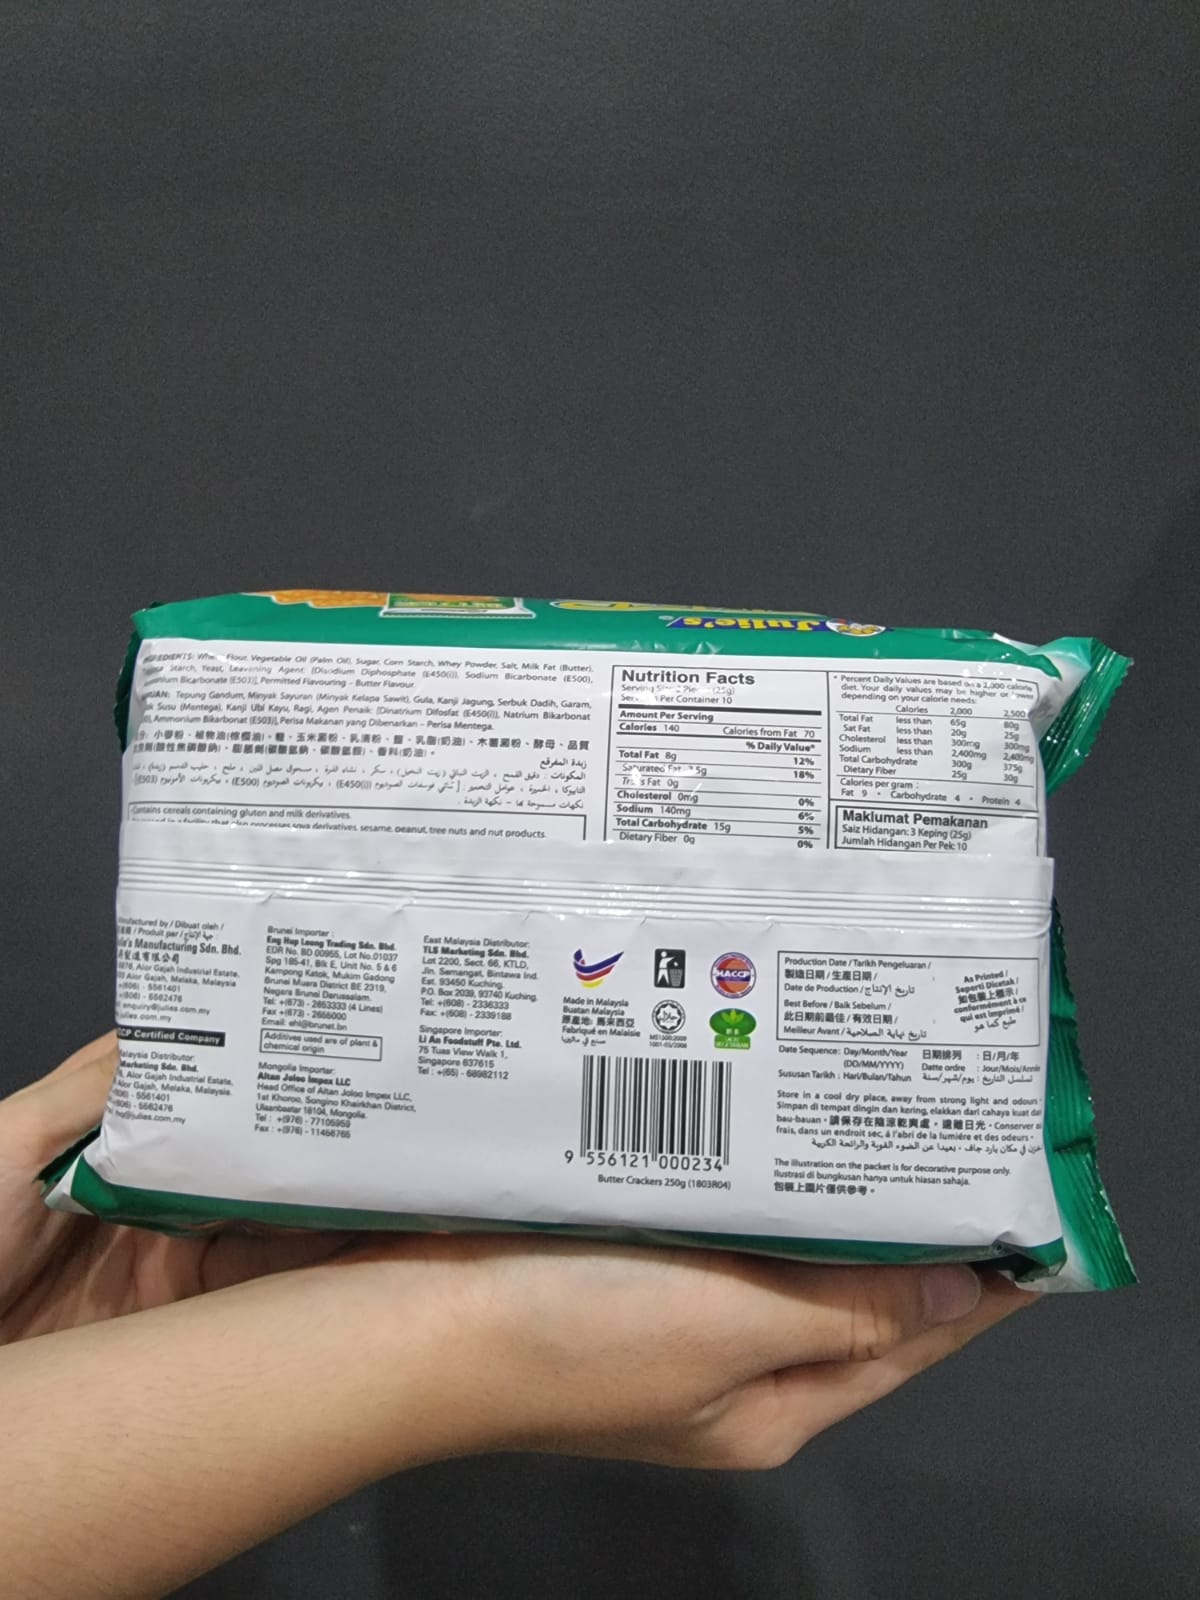Biscuits: (142, 643, 1044, 1207)
